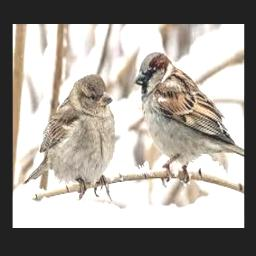Sparrow: (135, 51, 244, 187), (23, 73, 116, 202)
